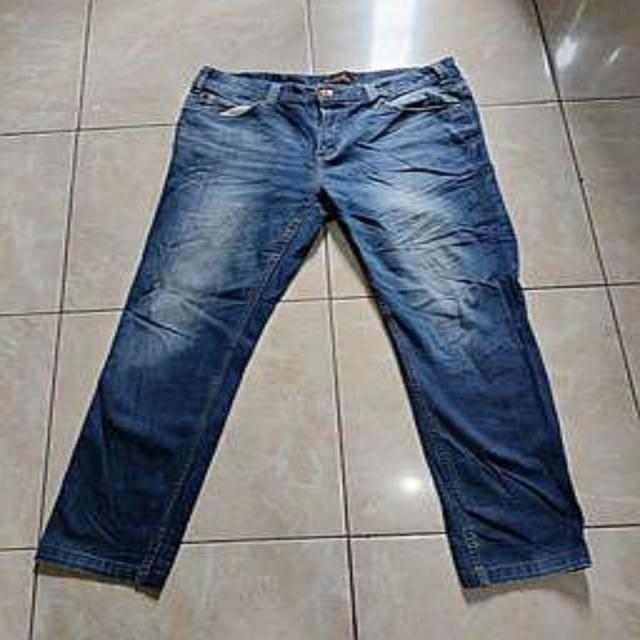TROUSER: (25, 56, 640, 602)
